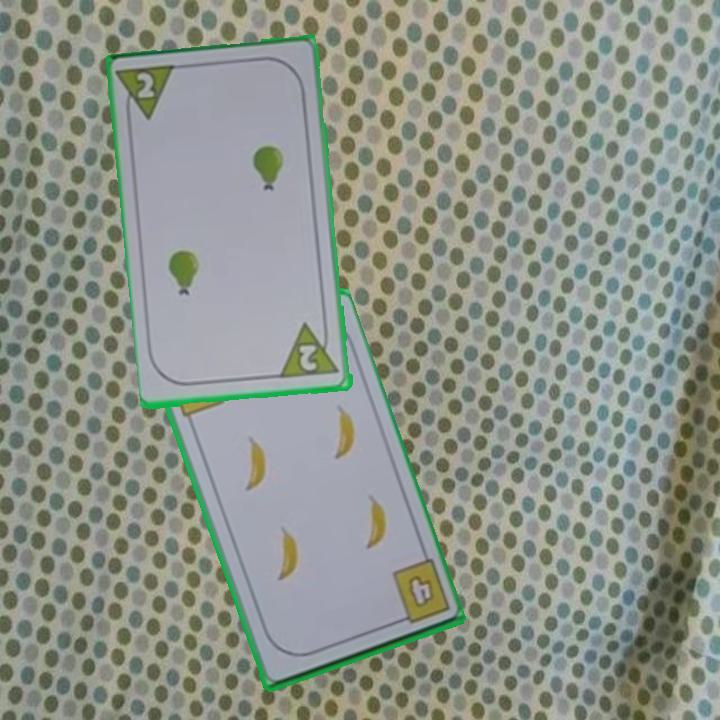2p: (115, 61, 181, 127), (295, 341, 320, 374)
4b: (388, 556, 453, 628)
